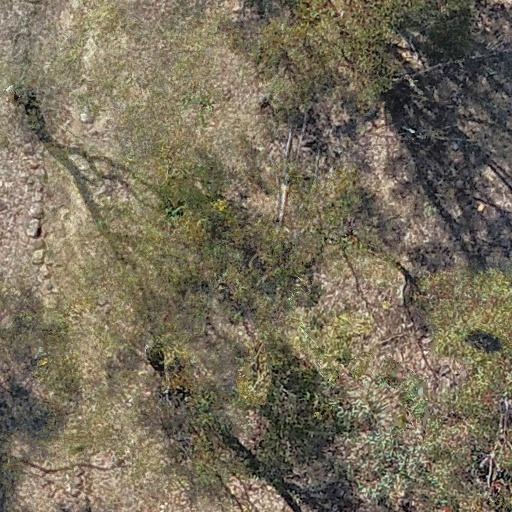stone: (27, 218, 40, 237), (28, 202, 43, 216), (72, 463, 86, 477), (33, 249, 45, 264), (40, 265, 50, 280), (73, 477, 85, 489), (32, 191, 44, 201), (70, 486, 81, 496), (33, 180, 42, 192), (47, 282, 54, 290)
